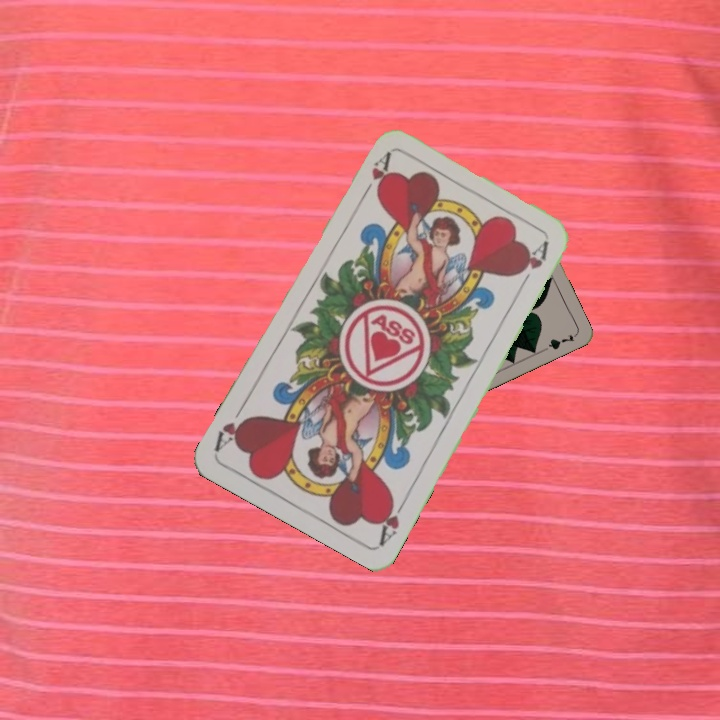HA: (356, 149, 394, 203), (375, 492, 411, 547)
